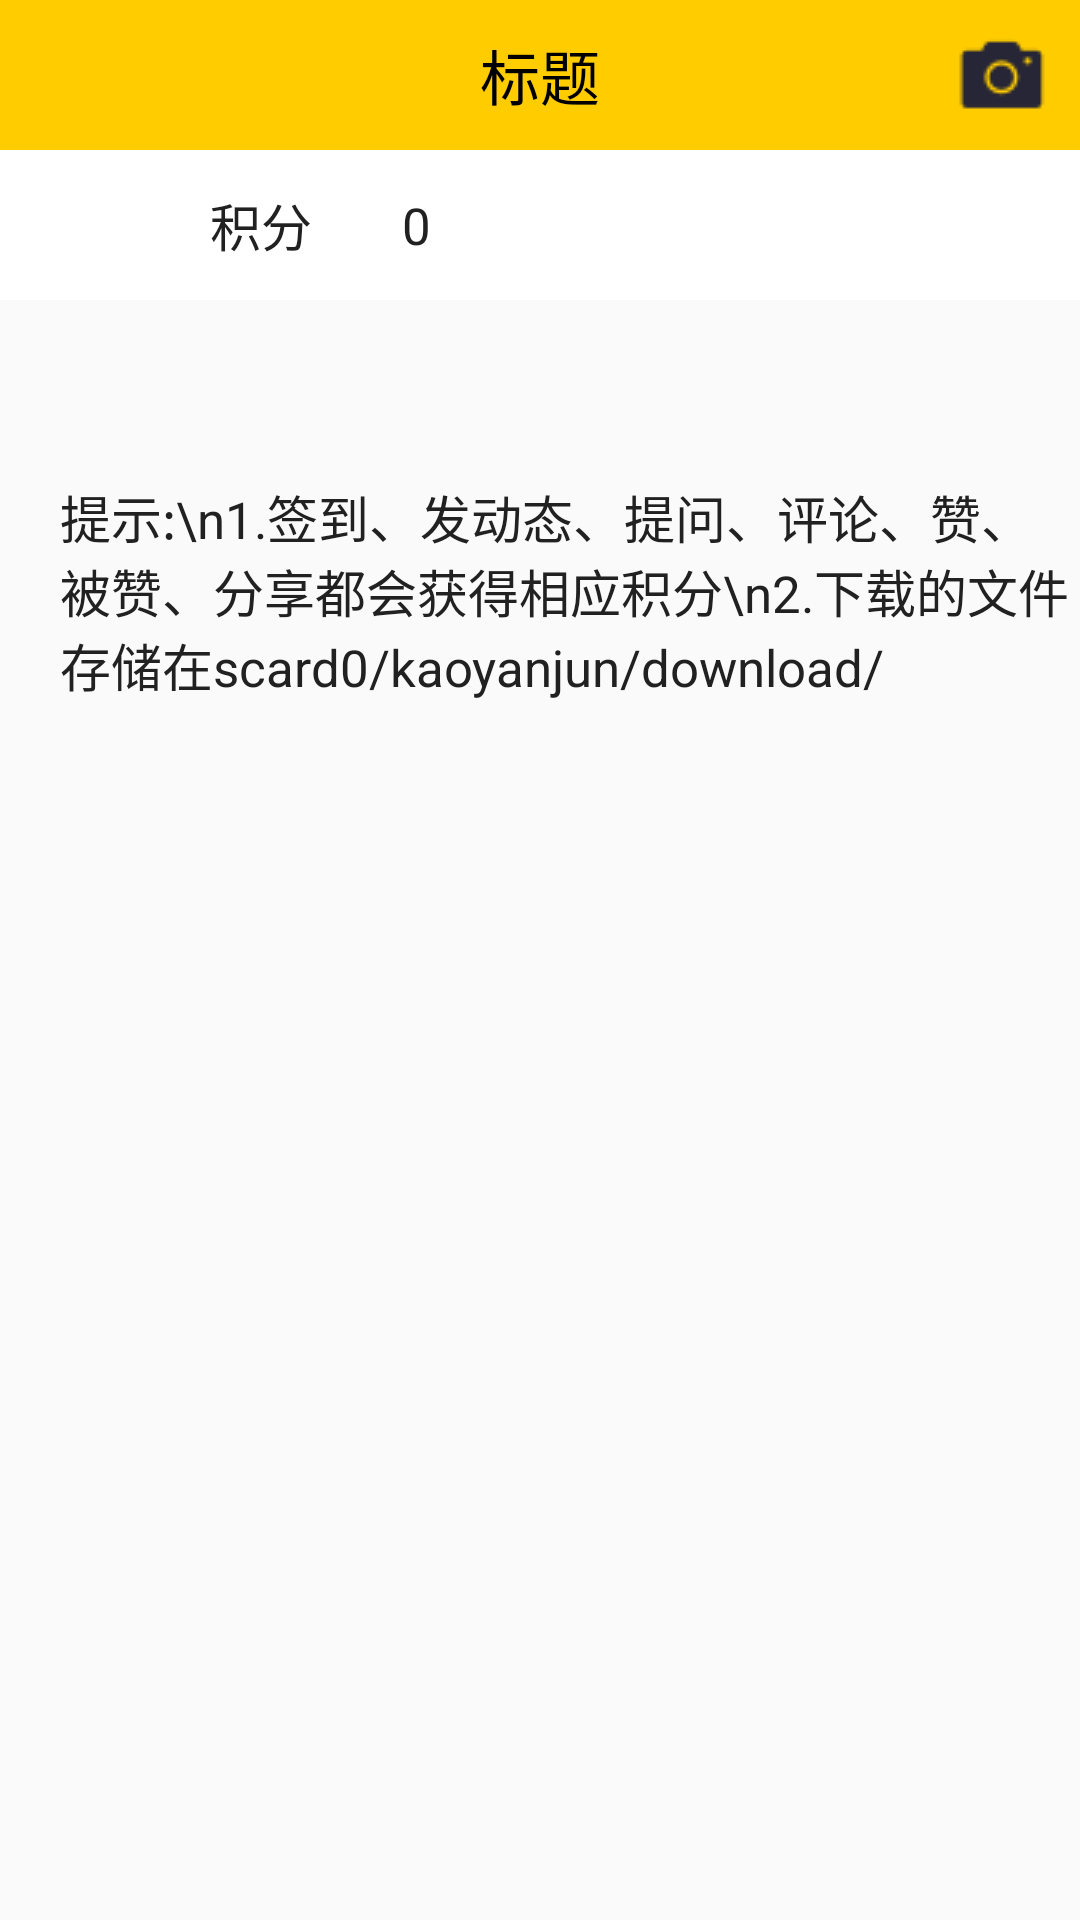

Icons on this 1080px×1920px Android screen, each with its box as box=[x1, y1, x2, y2]:
camera: box=[959, 41, 1044, 109]
